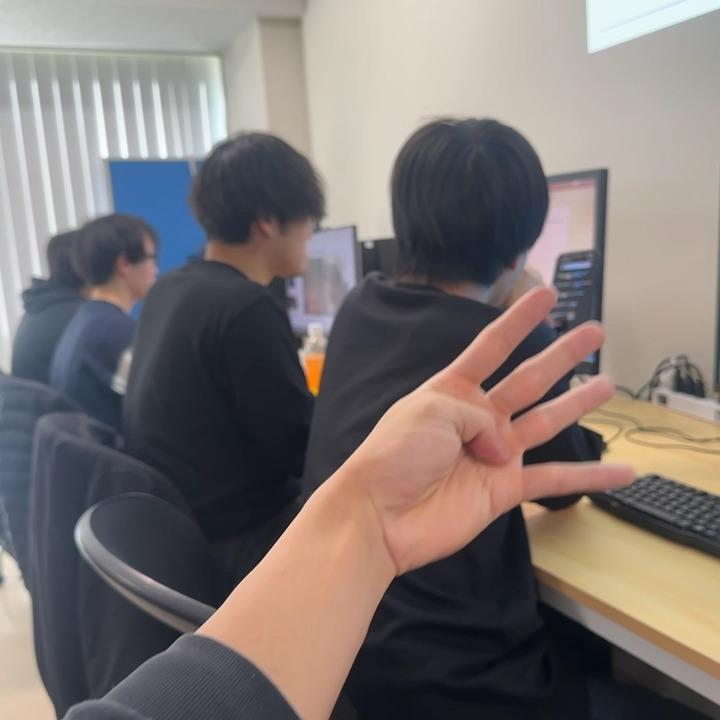without_gloves: (381, 300, 640, 535)
